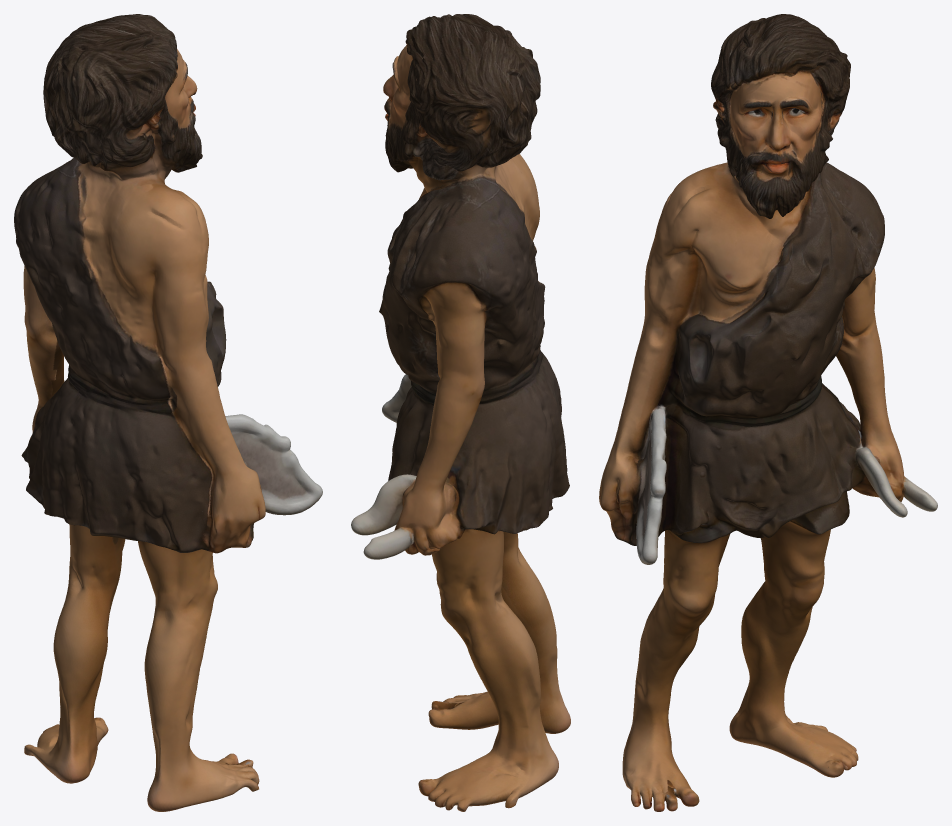
Rendered from homo-erectus-low.glb.
The picture shows the model from 3 angles, left to right: view 1: azimuth 30°, elevation 25°; view 2: azimuth 150°, elevation 25°; view 3: azimuth 270°, elevation 25°; orthographic projection. The views are drawn at different scales.
Parts seen in each view (by area): view 1: tripo_node_a9b0fa13-d598-4516-b233-a8e6359c7dcf; view 2: tripo_node_a9b0fa13-d598-4516-b233-a8e6359c7dcf; view 3: tripo_node_a9b0fa13-d598-4516-b233-a8e6359c7dcf.
Part boxes in pixels (x1,y1,x2,y2): tripo_node_a9b0fa13-d598-4516-b233-a8e6359c7dcf: (14, 14, 322, 811); tripo_node_a9b0fa13-d598-4516-b233-a8e6359c7dcf: (351, 14, 570, 811); tripo_node_a9b0fa13-d598-4516-b233-a8e6359c7dcf: (599, 14, 937, 811).
Bounding box in the file's own units: 0.3096 × 1 × 0.4095.
1 material, 1 textured.
